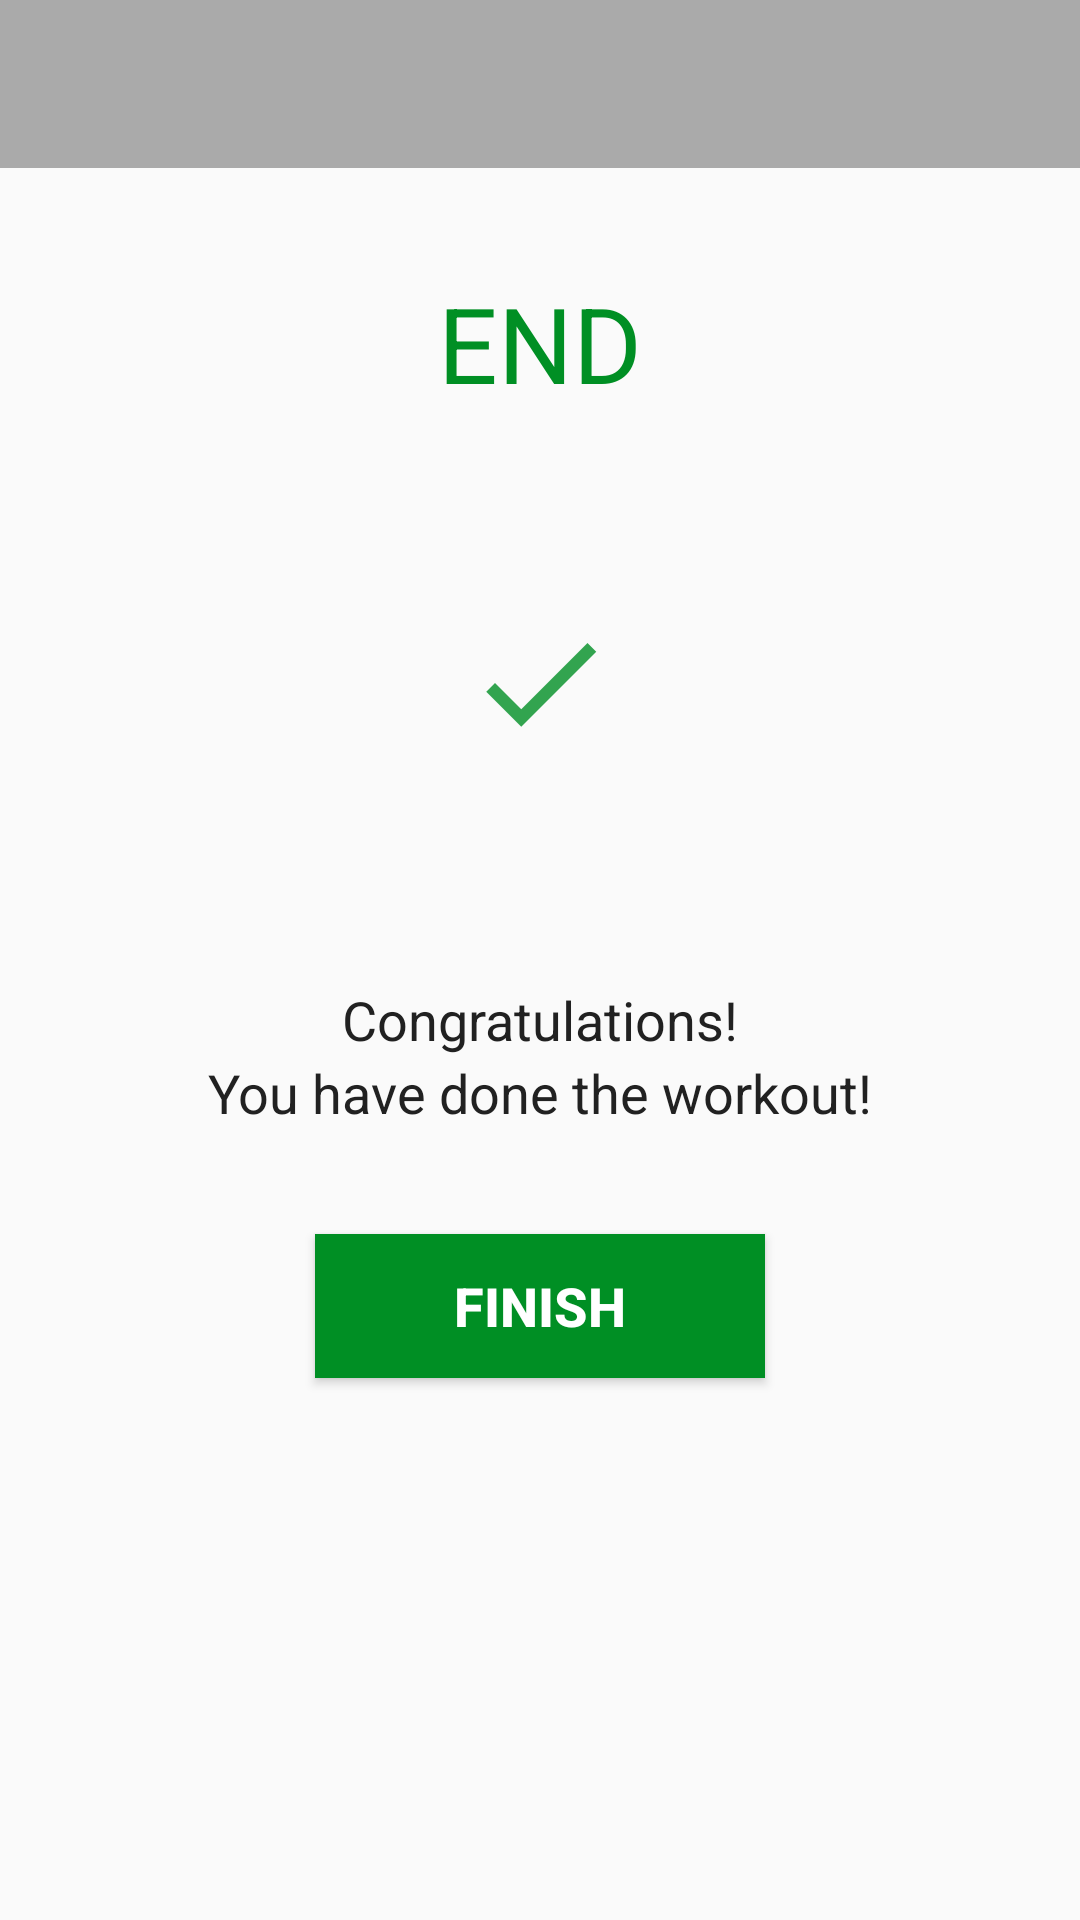

Named icons in this screenshot (1080 × 1920) and their centers, (x,y):
done: (541,685)
